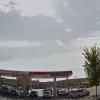Car: (65, 84, 90, 100)
